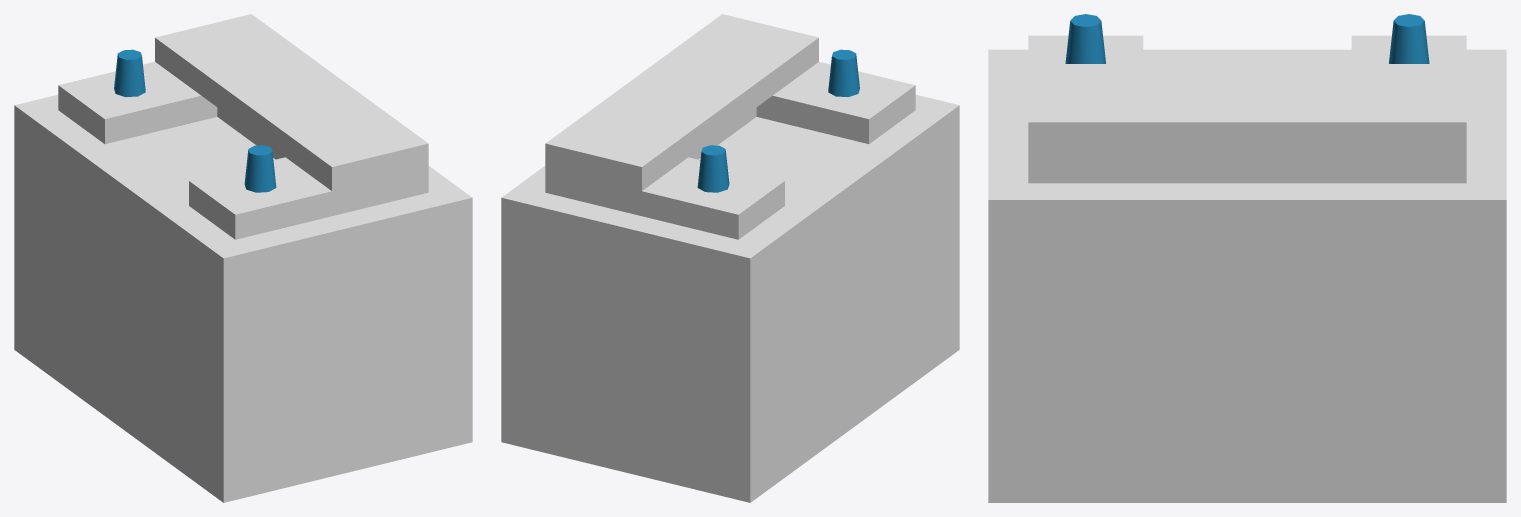
Rendered from battery_b.fbx.
3 views of the same model, side by side, from view 1: azimuth 30°, elevation 25°; view 2: azimuth 150°, elevation 25°; view 3: azimuth 270°, elevation 25° (orthographic). The views are drawn at different scales.
Visible parts, largest first — view 1: battery_b; view 2: battery_b; view 3: battery_b.
Part boxes in pixels (x1,y1,x2,y2): battery_b: (14, 14, 472, 502); battery_b: (501, 14, 959, 502); battery_b: (988, 14, 1506, 502).
Size of the model in its own units: 0.3436 by 0.4024 by 0.5.
